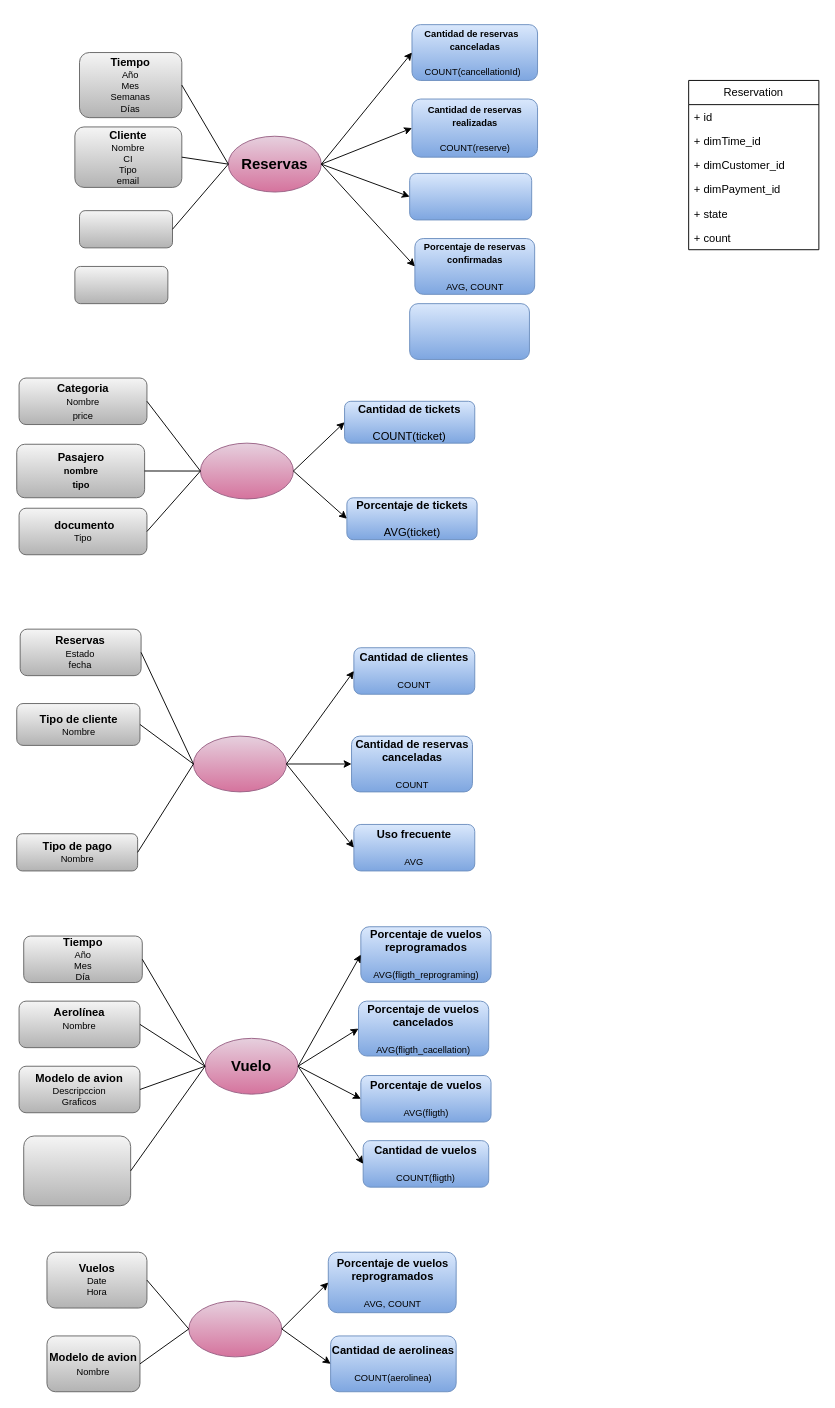
This 835x1408 diagram has some shape labels left out. The shapes that lost their labels are listed below. From the top down, each one's centre as x and y in pixels, then its label:
pixel 470 196: Porcentaje de reservas canceladas AVG(reserve)
pixel 126 229: pago Tipo
pixel 121 285: Ticket numero ticketing code
pixel 469 331: Promedio de monto total de reservas AVG, COUNT
pixel 246 470: ticket
pixel 239 763: customer
pixel 77 1170: Aeropuerto Nombre cuidad pais
pixel 235 1328: Aerolinea
